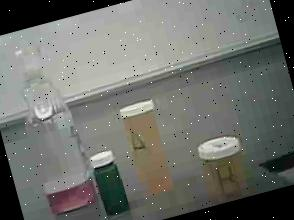Bottle A: (114, 93, 184, 204)
Bottle B: (194, 130, 258, 207)
Bottle C: (85, 147, 134, 218)
hazard: (0, 29, 103, 220)
